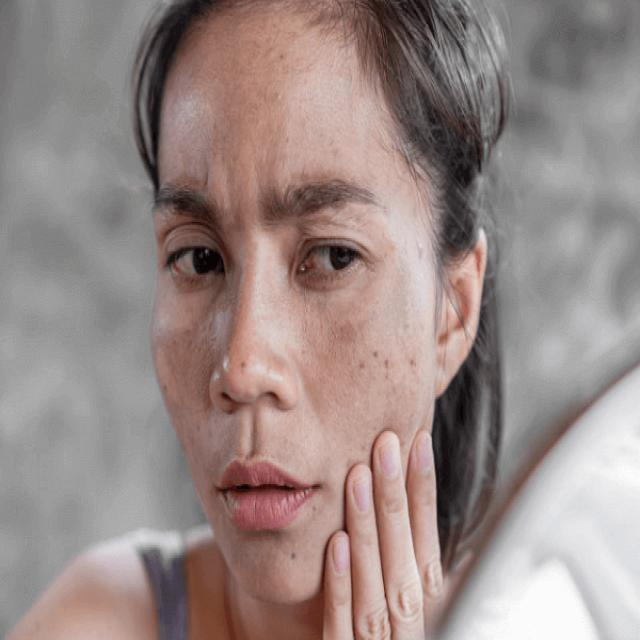Dark-Spots: (303, 308, 430, 436), (148, 311, 234, 440)
